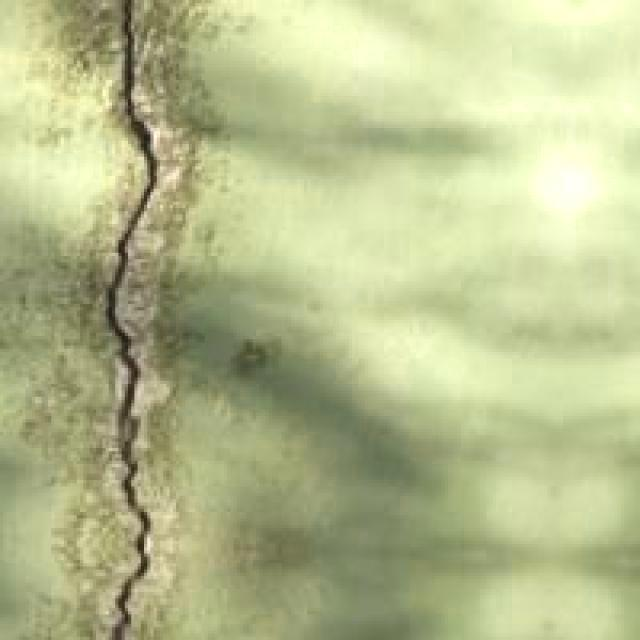crack: (72, 0, 216, 640)
